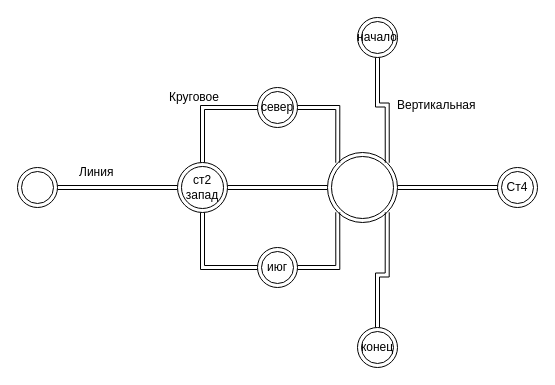
This 555x385 diagram has some shape labels left out. The centre of each missing label's shape, as x and y in pixels:
"Ст1" belongs at (37,187).
"ст3 восток централ" belongs at (362,187).
